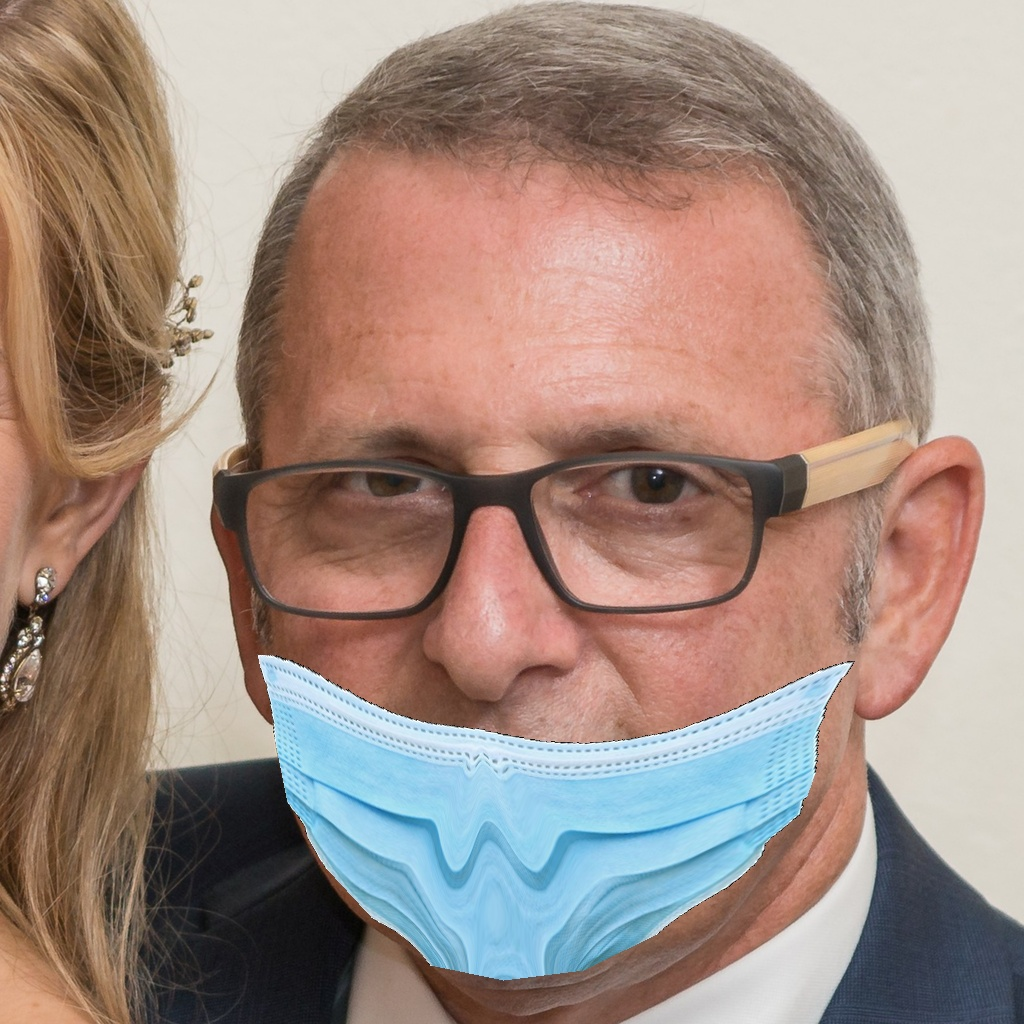mascarilla_mal_puesta: (213, 418, 971, 968)
